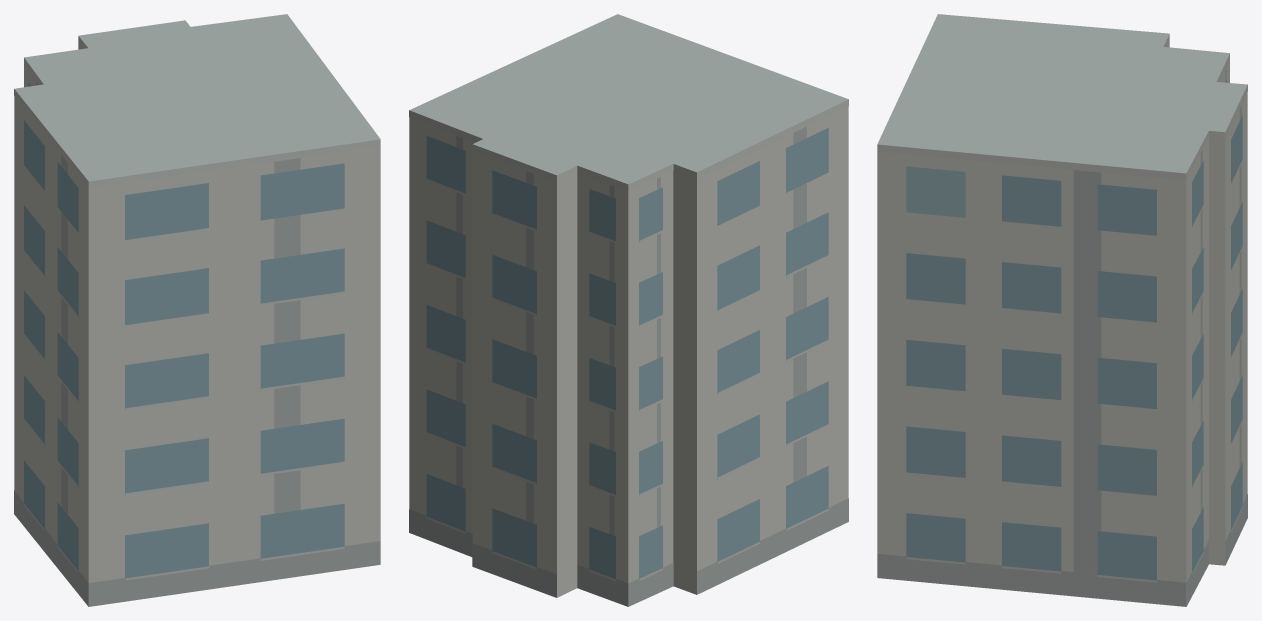
Rendered from survey-upis-32764332.glb.
The picture shows the model from 3 angles, left to right: view 1: azimuth 30°, elevation 25°; view 2: azimuth 150°, elevation 25°; view 3: azimuth 270°, elevation 25°; orthographic projection. The views are drawn at different scales.
Visible parts, largest first — view 1: survey-upis-32764332.tmp; view 2: survey-upis-32764332.tmp; view 3: survey-upis-32764332.tmp.
Boxes of the visible parts, <box> form: survey-upis-32764332.tmp: <box>14,14,380,606</box>; survey-upis-32764332.tmp: <box>409,14,848,606</box>; survey-upis-32764332.tmp: <box>877,14,1247,606</box>.
Size of the model in its own units: 11.6 by 14.7 by 11.4.
